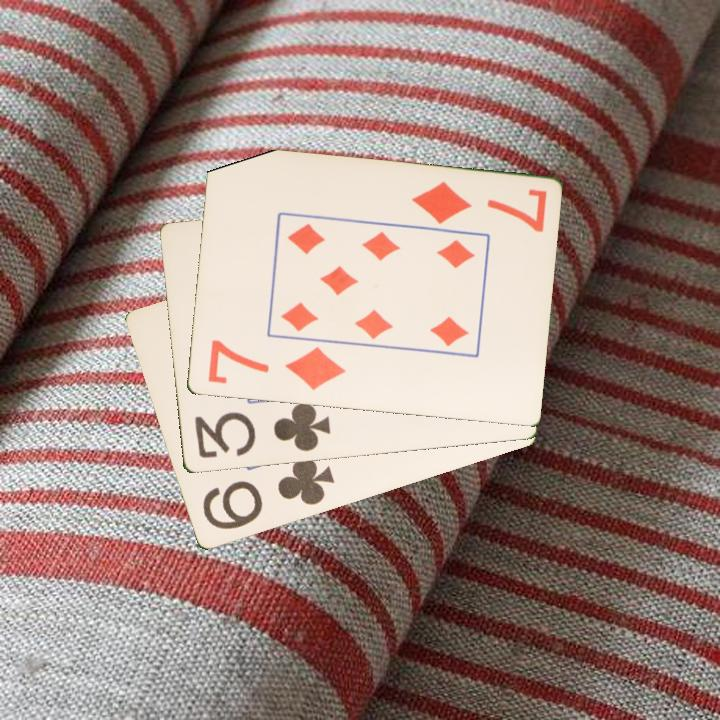3c: (190, 399, 333, 462)
6c: (198, 454, 337, 533)
7d: (407, 178, 550, 236), (203, 337, 348, 394)
